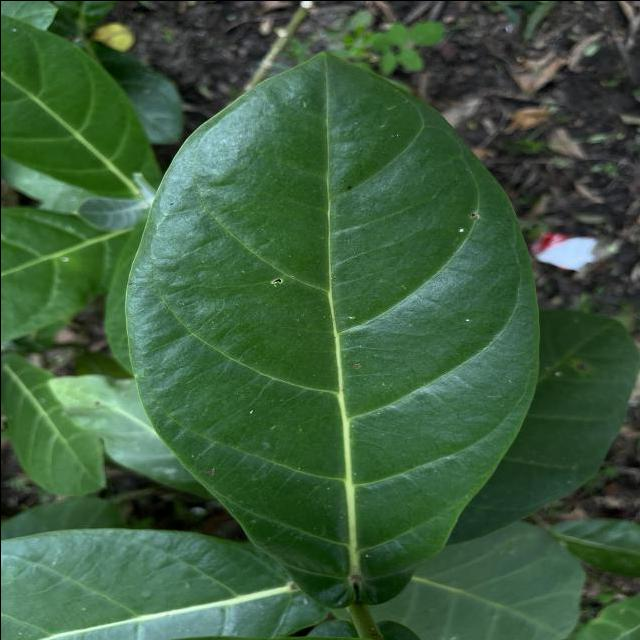Calotropis gigantea: (118, 44, 546, 613), (0, 7, 155, 194)
